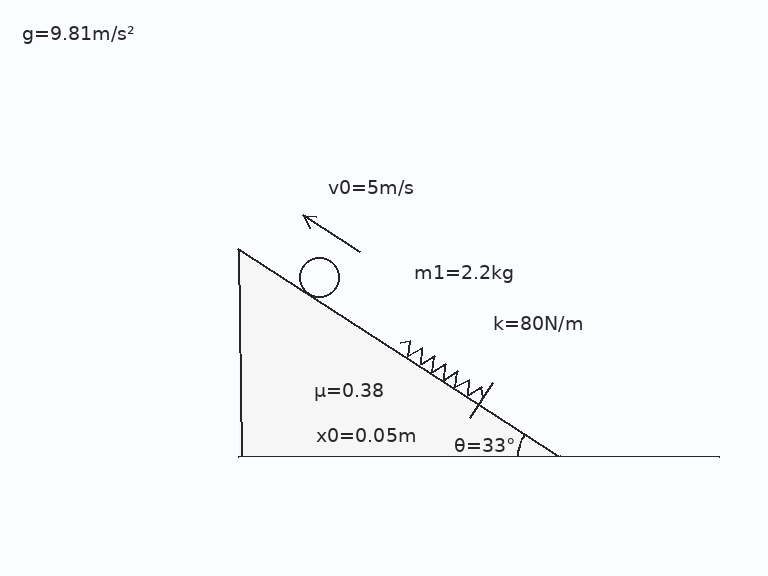ball: (297, 255, 341, 299)
ramp: (237, 247, 560, 458)
spring: (398, 339, 485, 399)
